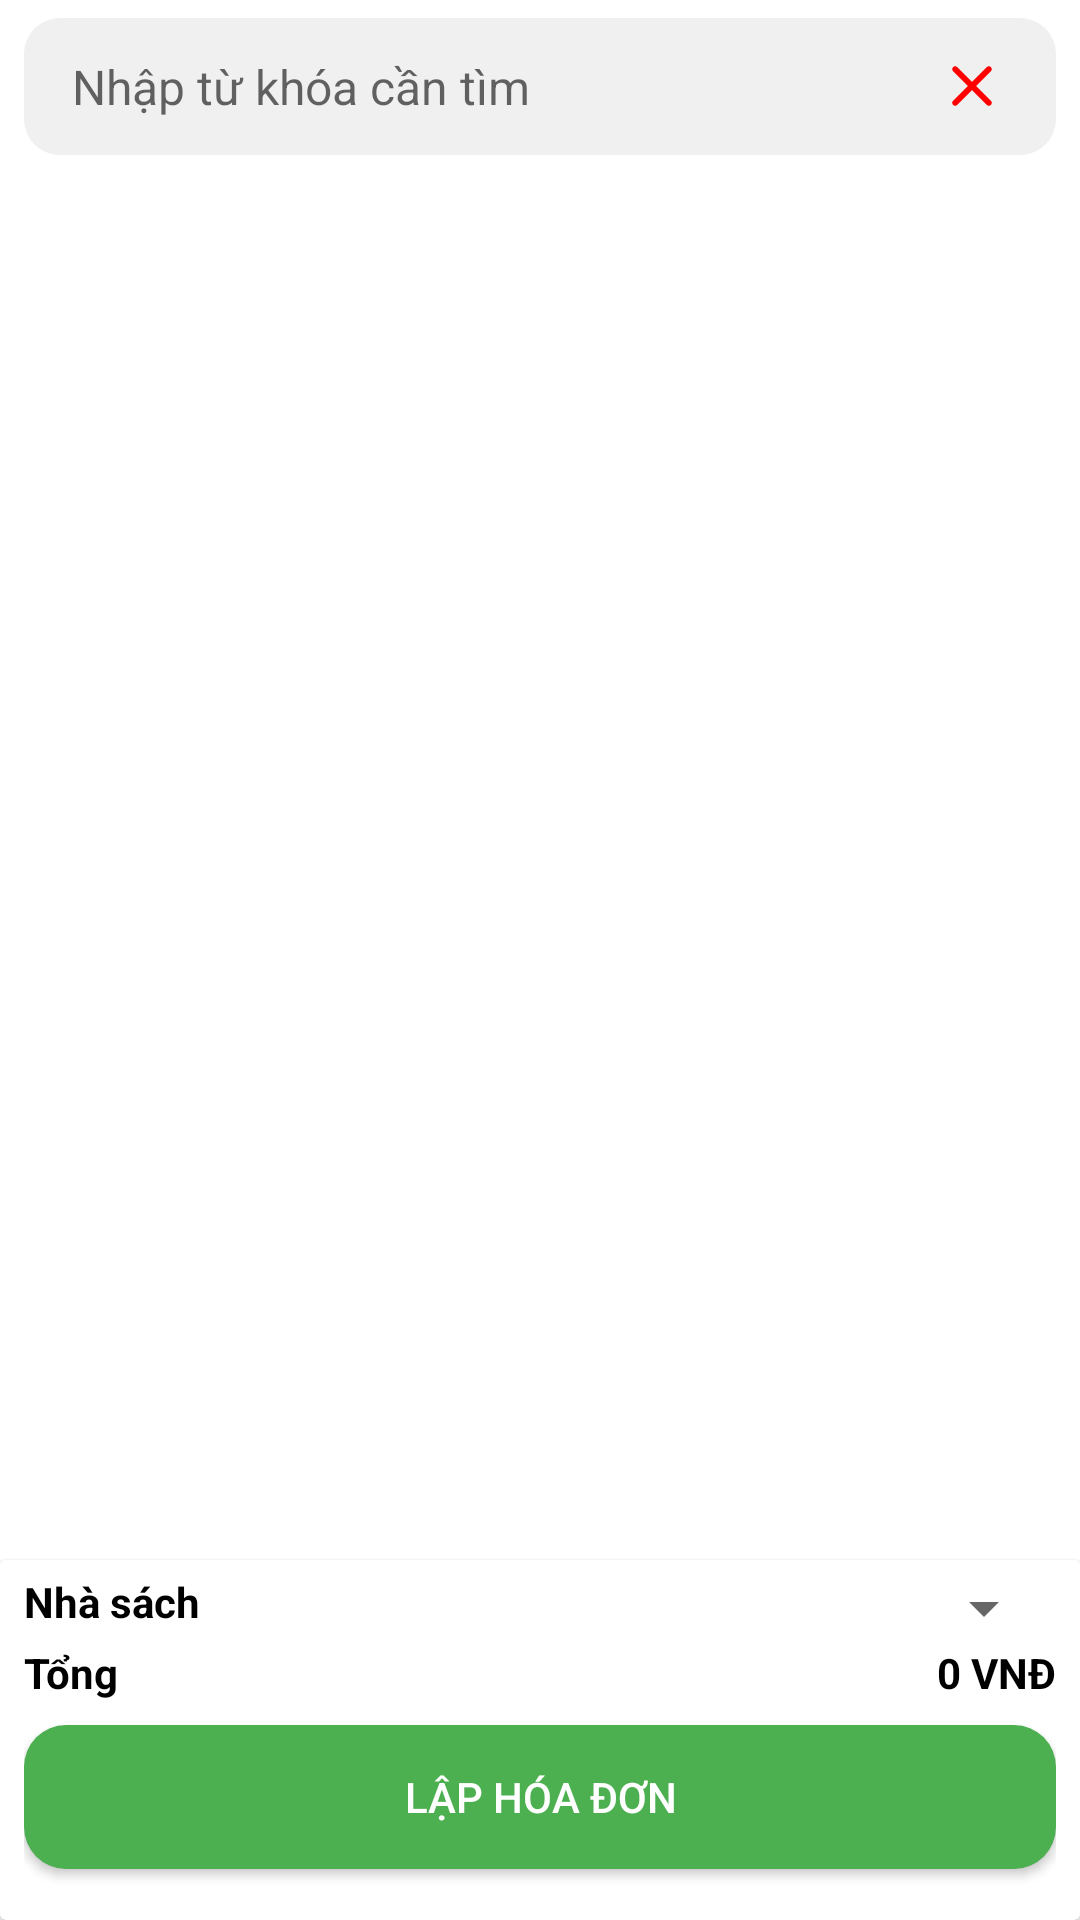

Icon bounding boxes for this 1080 × 1920 phone screenshot, format (x1, y1, x2, y2):
clear: (952, 66, 992, 106)
